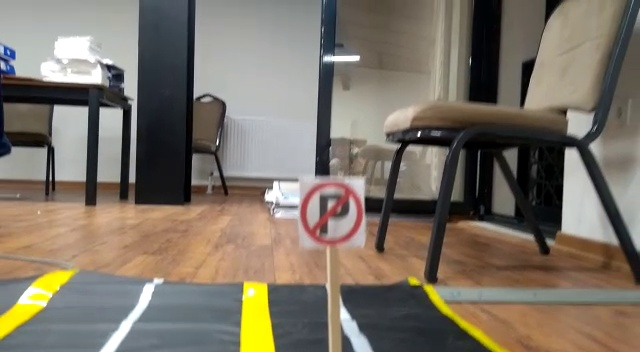park_yapilmaz: (300, 176, 363, 246)
